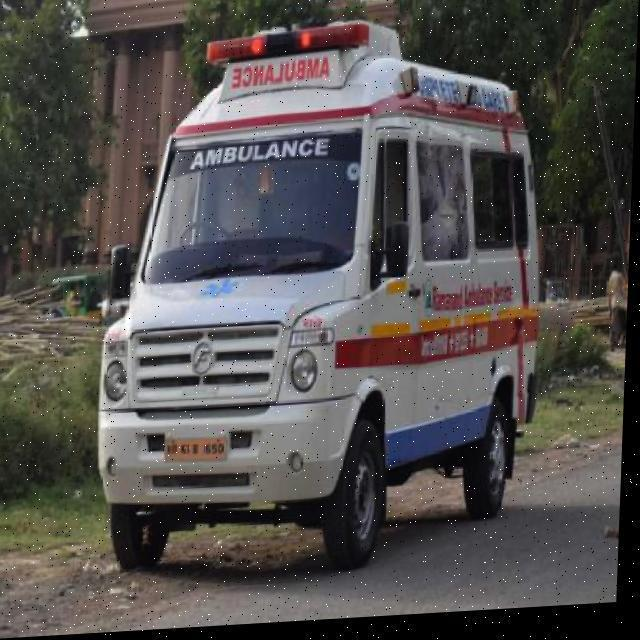Ambulance: (90, 11, 558, 589), (0, 416, 625, 638), (601, 264, 630, 366)
